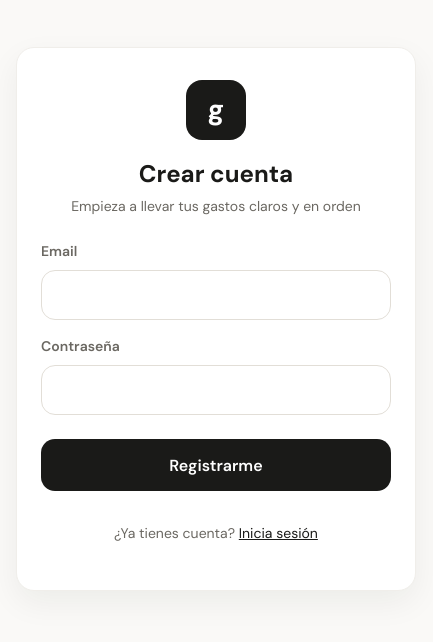
Test: RegistroView (HU-1.1) › Escenario: Registro exitoso sin sesión (confirmación de email pendiente) — no redirige y muestra mensaje
This screenshot has width=433, height=642.
Type "nuevo@test.com" into the field with id "email" at (216, 295), box [41,270,391,320]
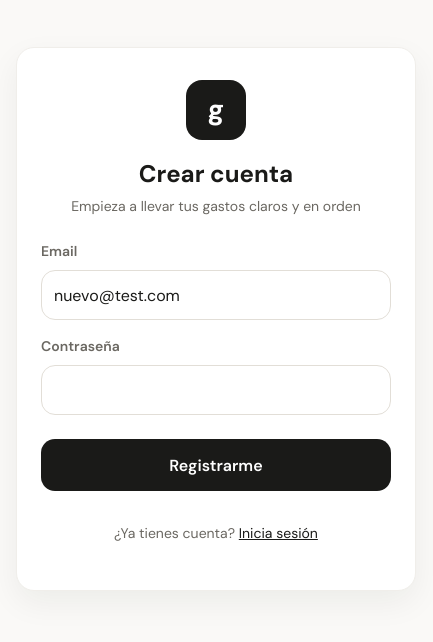
Type "password123" into the password field labelled "Contraseña" at (216, 390), box [41,365,391,415]
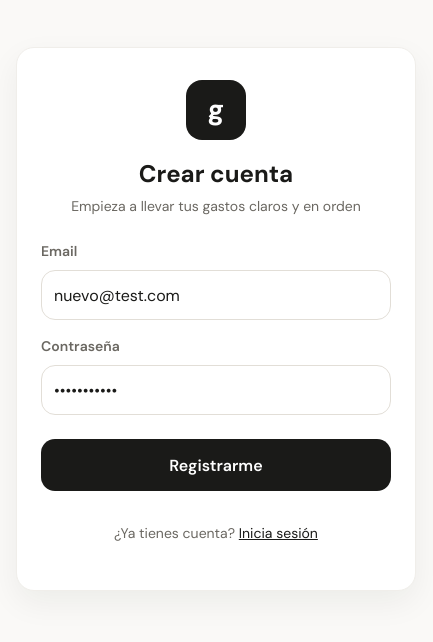
Submit the form, box [41,241,391,491]
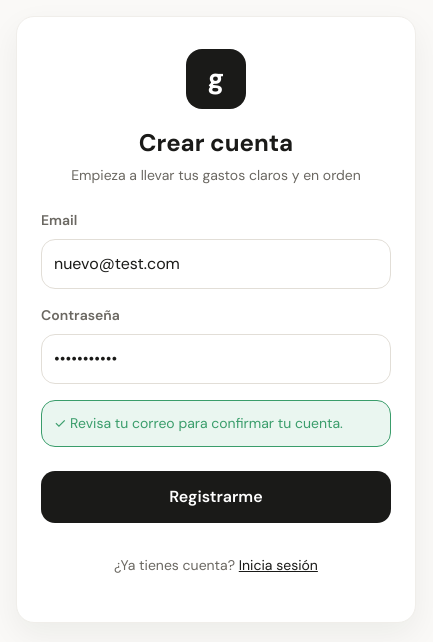
Check: the message "Revisa tu correo para confirmar tu cuenta." is shown, box [41,400,391,446]
